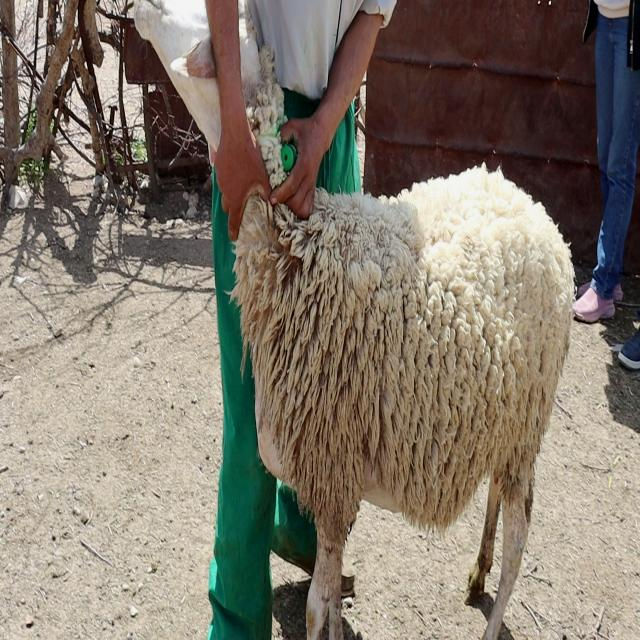Score_5: (232, 166, 574, 639)
